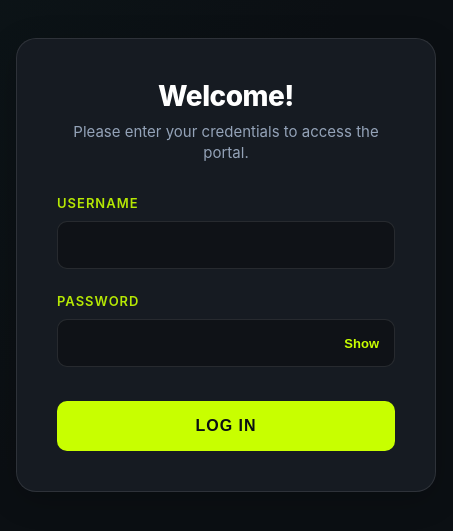
Test: Login › clears username error when user starts typing
Click the button "Log in" at [226, 426], box x1=57 y1=401 x2=395 y2=451
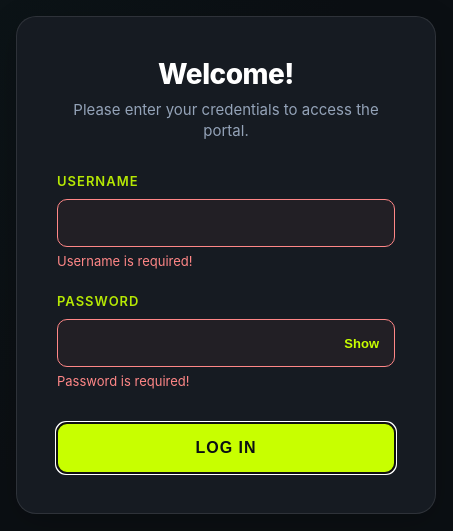
Now the text "Username is required!" is shown, box x1=57 y1=253 x2=192 y2=269
Type "mark" into the field labelled "Username" at [226, 223], box x1=57 y1=199 x2=395 y2=247
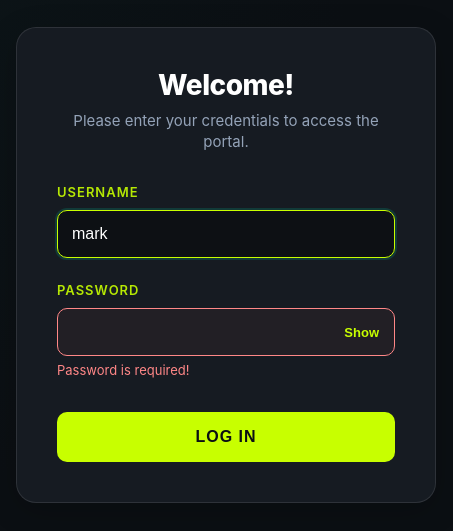
Now the text "Username is required!" is gone
